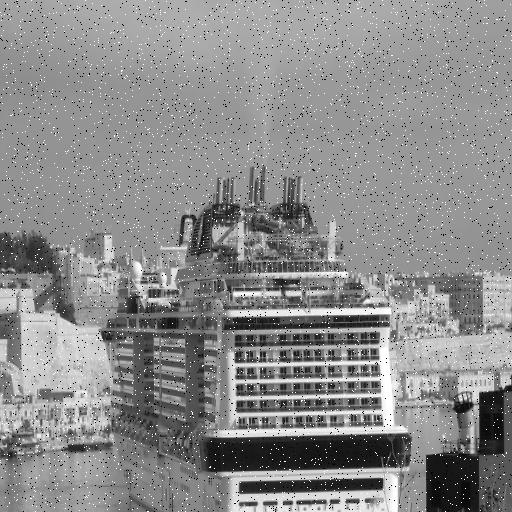cruises: (102, 158, 411, 512)
